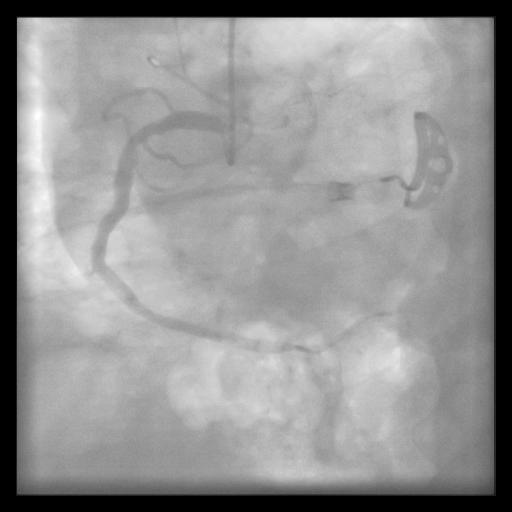Stenosis: (125, 124, 163, 145)
